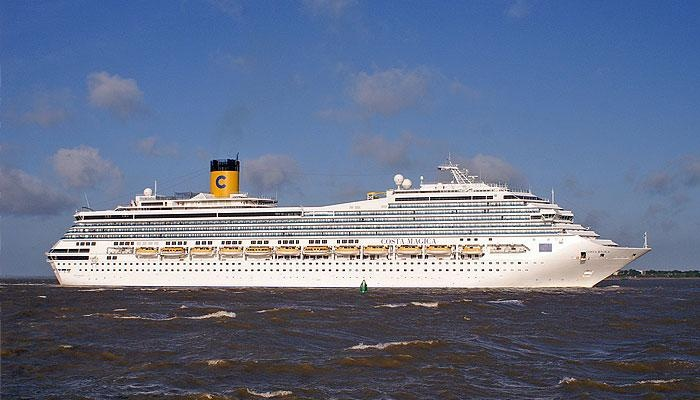youlun: (49, 150, 655, 297)
